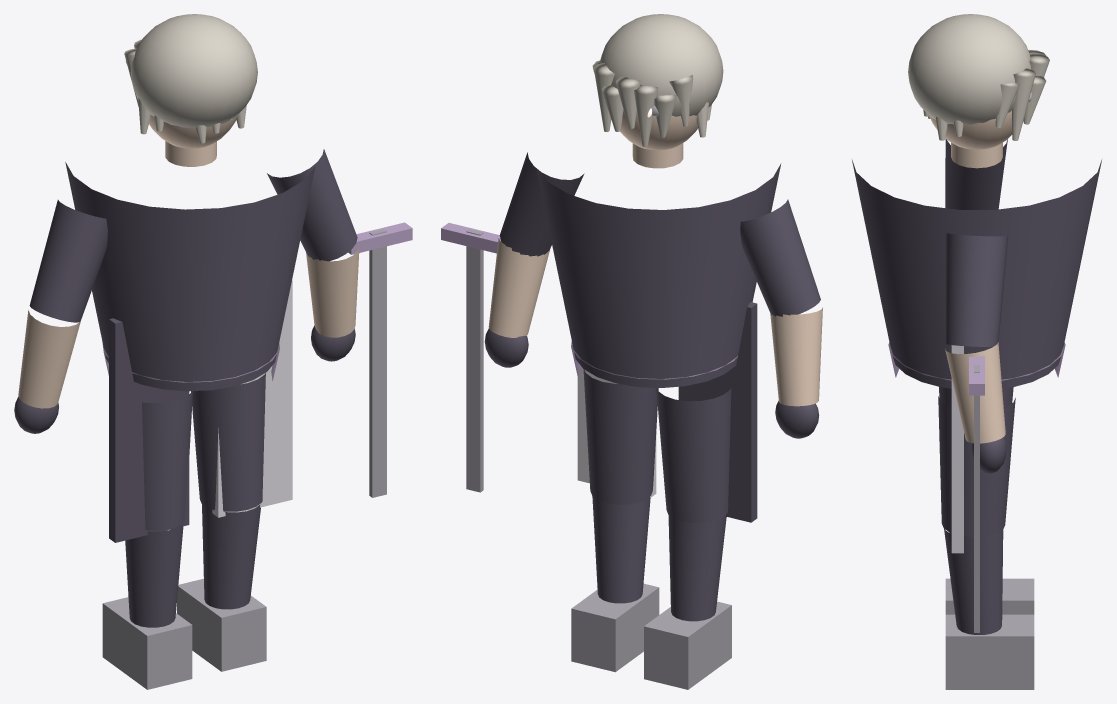
Rendered from abel-procedural-v1.glb.
3 renders of one model, left to right at view 1: azimuth 30°, elevation 25°; view 2: azimuth 150°, elevation 25°; view 3: azimuth 270°, elevation 25°, orthographic. The views are drawn at different scales.
Parts seen in each view (by area): view 1: Outfit_Torso, Hair_Cap, Body_Thigh_R, Outfit_CoatTail_L, Body_UpperArm_L, Body_Thigh_L, Outfit_Boot_L, Outfit_CoatTail_R, Outfit_Boot_R, Body_Shin_R, Body_Shin_L, Weapon_SwordBlade (+8 smaller); view 2: Outfit_Torso, Body_Thigh_L, Body_Thigh_R, Hair_Cap, Outfit_CoatTail_L, Body_UpperArm_L, Outfit_Boot_L, Outfit_Boot_R, Body_Shin_R, Body_Shin_L, Weapon_SwordBlade, Body_Forearm_L (+14 smaller); view 3: Outfit_Torso, Hair_Cap, Body_UpperArm_R, Outfit_Boot_R, Body_Thigh_R, Body_Shin_R, Body_Forearm_R, Body_UpperArm_L, Outfit_CoatTail_R, Body_Head, Outfit_Boot_L, Weapon_SwordBlade (+8 smaller).
Part boxes in pixels (x1,y1,x2,y2): Outfit_Torso: (65, 162, 315, 391); Hair_Cap: (130, 14, 257, 128); Body_Thigh_R: (191, 373, 265, 511); Outfit_CoatTail_L: (109, 318, 189, 542); Body_UpperArm_L: (29, 200, 107, 322); Body_Thigh_L: (142, 391, 192, 530); Outfit_Boot_L: (102, 597, 192, 689); Outfit_CoatTail_R: (212, 280, 292, 517); Outfit_Boot_R: (177, 578, 266, 671); Body_Shin_R: (202, 504, 260, 609); Body_Shin_L: (125, 523, 183, 627); Weapon_SwordBlade: (369, 229, 386, 497); Outfit_Torso: (536, 163, 781, 387); Body_Thigh_L: (656, 387, 731, 522); Body_Thigh_R: (583, 369, 658, 504); Hair_Cap: (600, 14, 723, 116); Outfit_CoatTail_L: (678, 302, 757, 522); Body_UpperArm_L: (740, 199, 820, 316); Outfit_Boot_L: (644, 601, 731, 689); Outfit_Boot_R: (571, 583, 659, 672); Body_Shin_R: (592, 496, 650, 603); Body_Shin_L: (668, 514, 726, 621); Weapon_SwordBlade: (466, 229, 483, 492); Body_Forearm_L: (770, 307, 822, 406); Outfit_Torso: (852, 160, 1101, 388); Hair_Cap: (908, 14, 1031, 124); Body_UpperArm_R: (945, 233, 1008, 346); Outfit_Boot_R: (945, 614, 1034, 689); Body_Thigh_R: (938, 396, 1015, 536); Body_Shin_R: (944, 528, 1003, 634); Body_Forearm_R: (945, 342, 1005, 443); Body_UpperArm_L: (945, 139, 1007, 209); Outfit_CoatTail_R: (951, 345, 963, 553); Body_Head: (929, 111, 1012, 149); Outfit_Boot_L: (945, 578, 1034, 614); Weapon_SwordBlade: (974, 365, 979, 632).
Bounding box in the file's own units: 1.27 × 2.02 × 0.7182.
